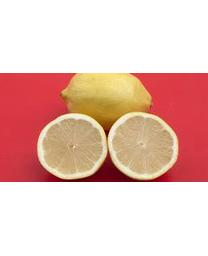lemon: (61, 72, 153, 125), (109, 113, 179, 179), (37, 114, 107, 177)
